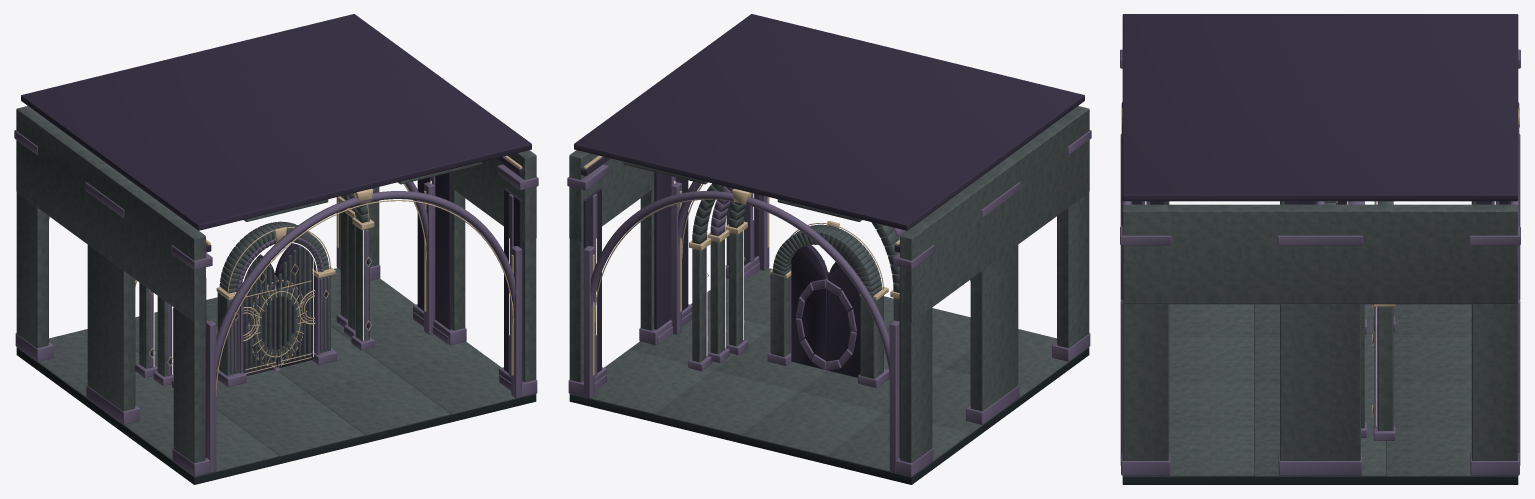
The model's file is portals.glb.
3 views of the same model, side by side, from view 1: azimuth 30°, elevation 25°; view 2: azimuth 150°, elevation 25°; view 3: azimuth 270°, elevation 25° (orthographic). The views are drawn at different scales.
Visible parts, largest first — view 1: CorridorBay__Basalt, CorridorBay__Obsidian_carved_relief, CorridorBay__Violet_honed_mineral, CorridorBay__Graphite_joints, PortalFrame__Basalt, PortalFrame__Violet_honed_mineral, DoorLeft__Basalt, DoorRight__Basalt, CorridorBay__Champagne_alloy, DoorLeft__Obsidian_carved_relief, Threshold_L0_Right__Basalt, DoorRight__Obsidian_carved_relief (+6 smaller); view 2: CorridorBay__Basalt, CorridorBay__Obsidian_carved_relief, CorridorBay__Violet_honed_mineral, PortalFrame__Basalt, CorridorBay__Graphite_joints, DoorLeft__Obsidian_carved_relief, DoorRight__Obsidian_carved_relief, Threshold_L2_Right__Basalt, Threshold_L0_Right__Basalt, Threshold_L1_Right__Basalt, CorridorBay__Champagne_alloy, Threshold_L2_Left__Basalt (+2 smaller); view 3: CorridorBay__Basalt, CorridorBay__Obsidian_carved_relief, CorridorBay__Violet_honed_mineral, CorridorBay__Graphite_joints, Threshold_L2_Right__Basalt, Threshold_L2_Right__Violet_honed_mineral, Threshold_L1_Right__Basalt.
Part boxes in pixels (x1,y1,x2,y2): CorridorBay__Basalt: [16, 106, 536, 477]; CorridorBay__Obsidian_carved_relief: [21, 14, 531, 457]; CorridorBay__Violet_honed_mineral: [14, 130, 538, 476]; CorridorBay__Graphite_joints: [16, 348, 536, 484]; PortalFrame__Basalt: [217, 221, 330, 375]; PortalFrame__Violet_honed_mineral: [216, 237, 336, 387]; DoorLeft__Basalt: [278, 246, 310, 364]; DoorRight__Basalt: [244, 257, 276, 372]; CorridorBay__Champagne_alloy: [49, 155, 522, 396]; DoorLeft__Obsidian_carved_relief: [275, 243, 312, 367]; Threshold_L0_Right__Basalt: [351, 193, 369, 340]; DoorRight__Obsidian_carved_relief: [239, 254, 276, 375]; CorridorBay__Basalt: [569, 106, 1089, 477]; CorridorBay__Obsidian_carved_relief: [574, 14, 1084, 457]; CorridorBay__Violet_honed_mineral: [567, 130, 1091, 476]; PortalFrame__Basalt: [770, 224, 883, 378]; CorridorBay__Graphite_joints: [569, 348, 1089, 484]; DoorLeft__Obsidian_carved_relief: [791, 245, 828, 369]; DoorRight__Obsidian_carved_relief: [827, 257, 860, 377]; Threshold_L2_Right__Basalt: [692, 183, 723, 362]; Threshold_L0_Right__Basalt: [729, 201, 745, 346]; Threshold_L1_Right__Basalt: [710, 239, 724, 354]; CorridorBay__Champagne_alloy: [583, 155, 899, 375]; Threshold_L2_Left__Basalt: [871, 222, 899, 321]; CorridorBay__Basalt: [1122, 201, 1518, 476]; CorridorBay__Obsidian_carved_relief: [1122, 14, 1518, 204]; CorridorBay__Violet_honed_mineral: [1120, 49, 1520, 475]; CorridorBay__Graphite_joints: [1122, 304, 1518, 484]; Threshold_L2_Right__Basalt: [1377, 201, 1393, 430]; Threshold_L2_Right__Violet_honed_mineral: [1373, 306, 1395, 440]; Threshold_L1_Right__Basalt: [1361, 304, 1364, 428].
Size of the model in its own units: 20.12 by 14.46 by 18.22.
Materials: 7 (1 with a texture image).
